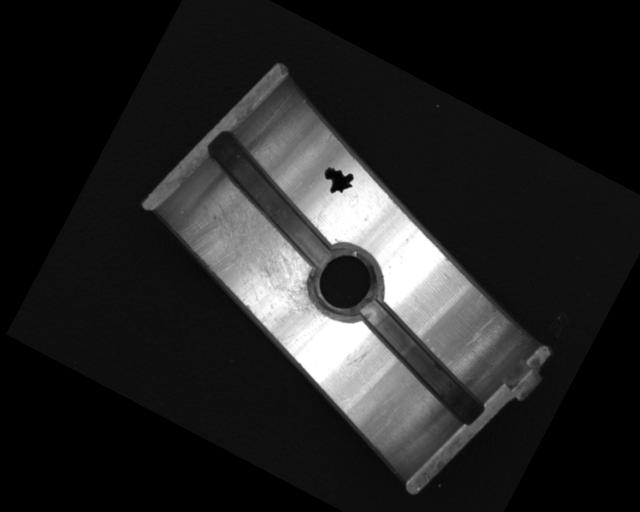blot: (315, 160, 359, 202)
gap: (186, 129, 357, 269), (336, 296, 504, 428)
hole: (297, 230, 395, 332)
nick: (465, 305, 501, 351)
scratch: (154, 176, 356, 361)
